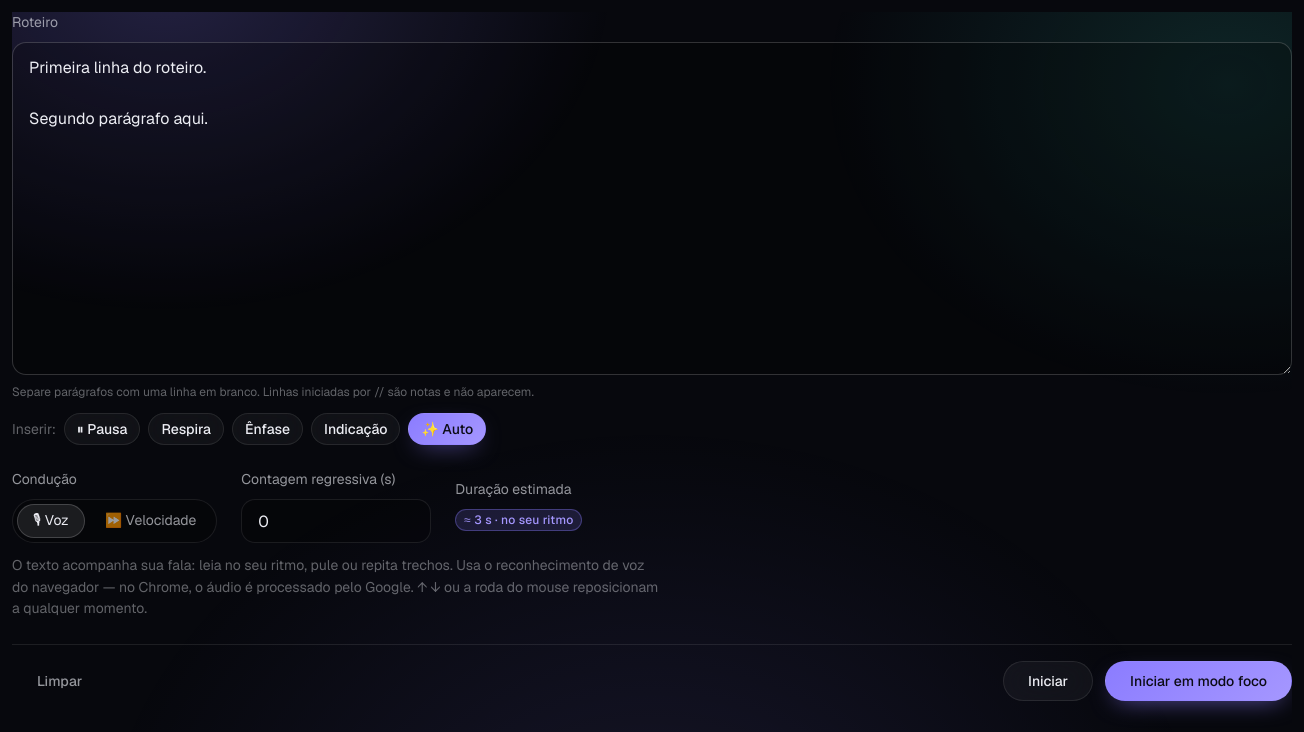
Test case: <Teleprompter /> — seguir a voz › o texto acompanha as palavras ditas até o fim
The image size is (1304, 732).
Expected: the radio button labelled "🎙 Voz" is checked, [17,504,85,538]
Click the button "Iniciar": (1048, 681) [1003,661,1093,701]
Wait 4500 ms
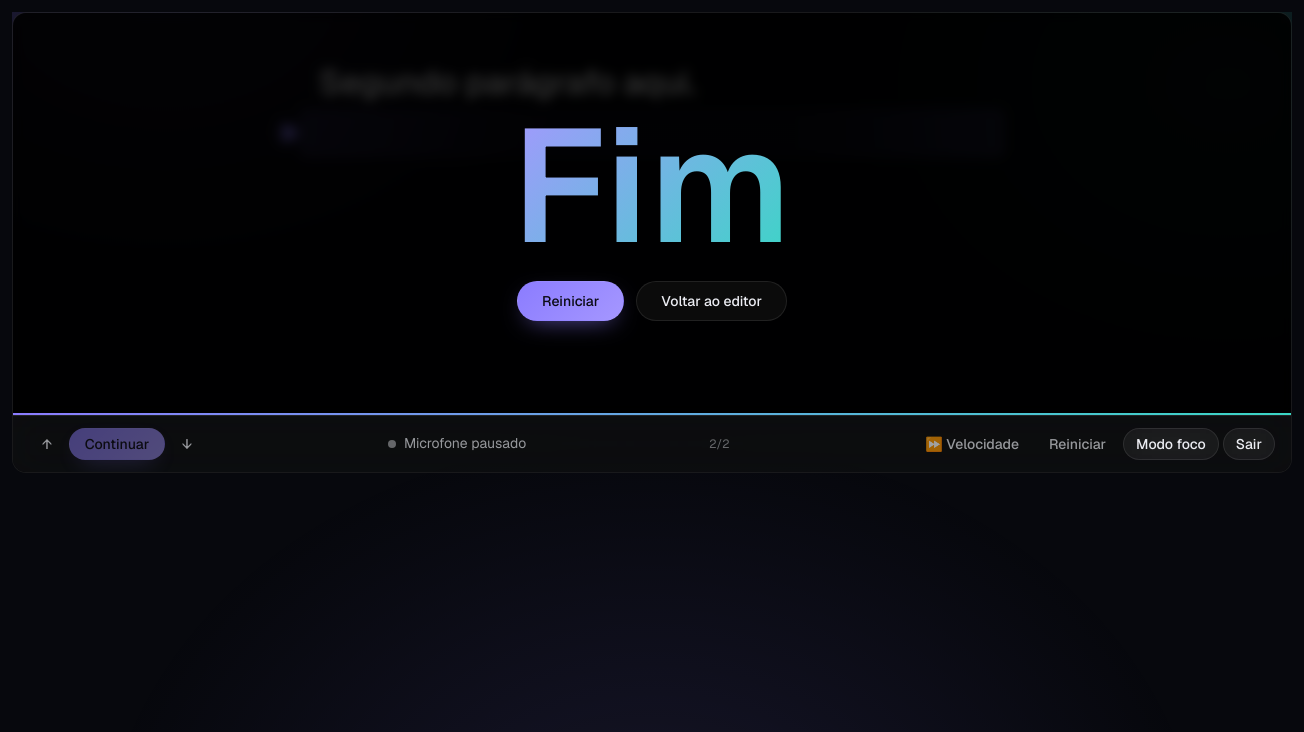
Now the text "Ouvindo" is shown, box [388,433,526,455]
Now the text "Segundo parágrafo aqui." is shown, box [319,61,696,104]
Now the text "Fim" is shown, box [512,105,792,265]
